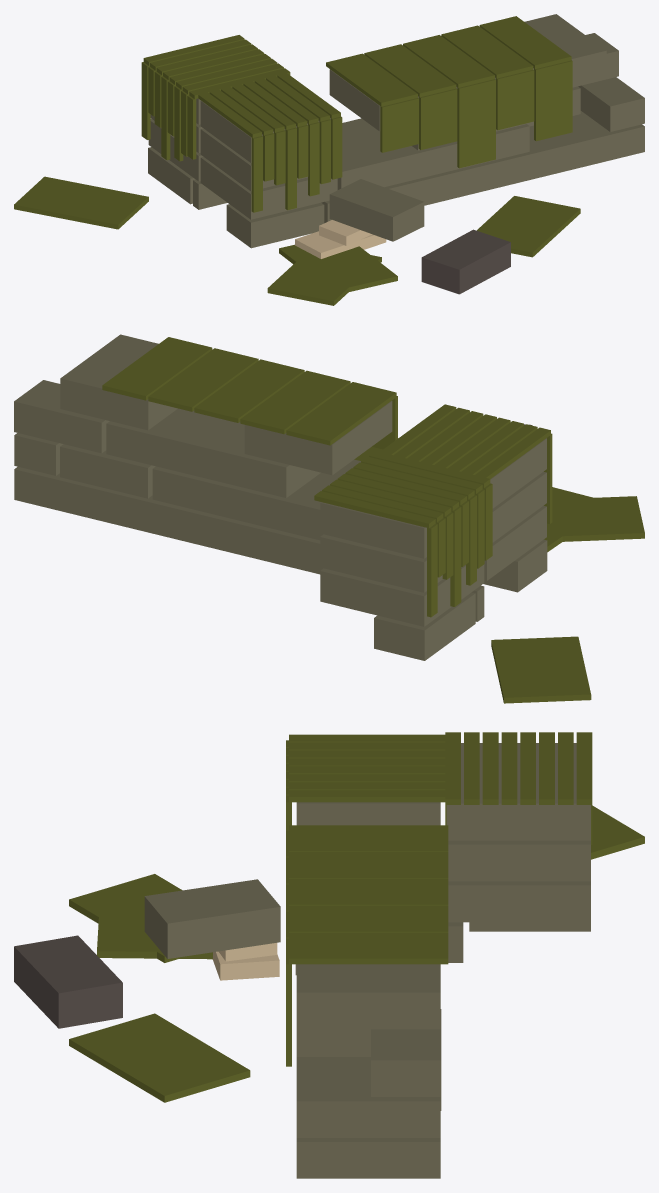
The model's file is SM_SacosRemate_v4_Red_e1_Danado_LOD1.fbx.
3 renders of one model, top to bottom at view 1: azimuth 30°, elevation 25°; view 2: azimuth 150°, elevation 25°; view 3: azimuth 270°, elevation 25°, orthographic. The views are drawn at different scales.
Visible parts, largest first — view 1: SM_sacos_piezas_v37_LOD1; view 2: SM_sacos_piezas_v37_LOD1; view 3: SM_sacos_piezas_v37_LOD1.
Boxes of the visible parts, x1,y1,x2,y2 form: SM_sacos_piezas_v37_LOD1: (14,14,644,305); SM_sacos_piezas_v37_LOD1: (14,334,644,703); SM_sacos_piezas_v37_LOD1: (14,732,644,1178).
Bounding box in the file's own units: 5.87 × 1.24 × 4.2.
